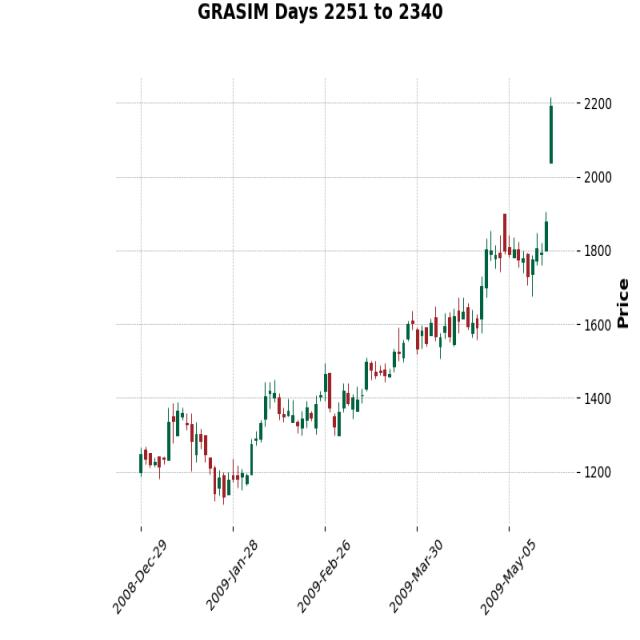Triple Bottom Reversal: (142, 379, 380, 509)
